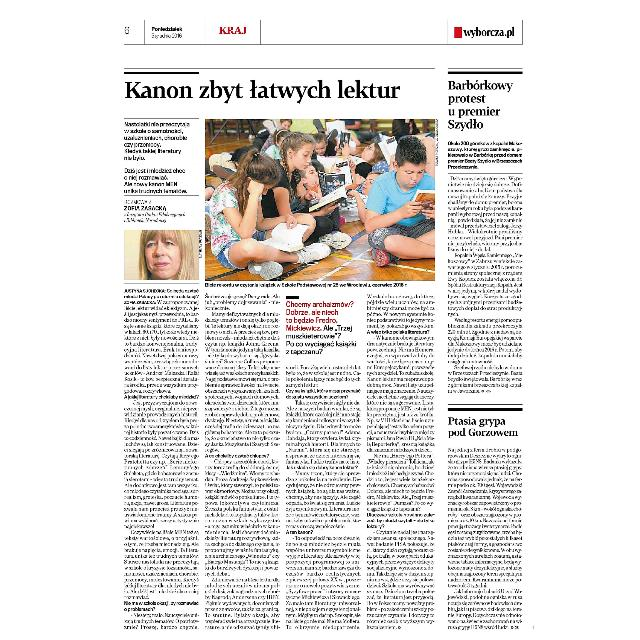article: (122, 70, 438, 632), (446, 69, 526, 397), (447, 406, 527, 632)
